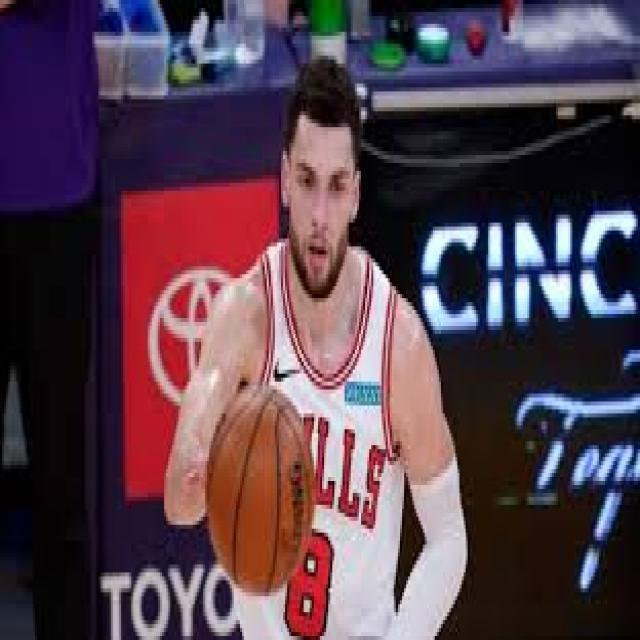rim: (205, 382, 314, 588)
